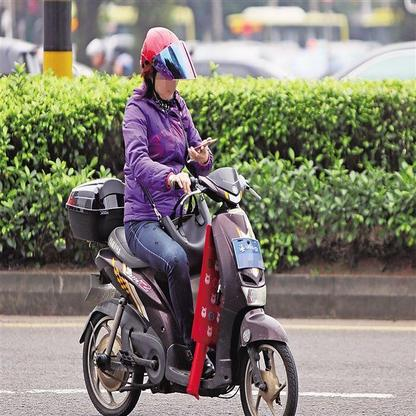target: (63, 26, 302, 413)
